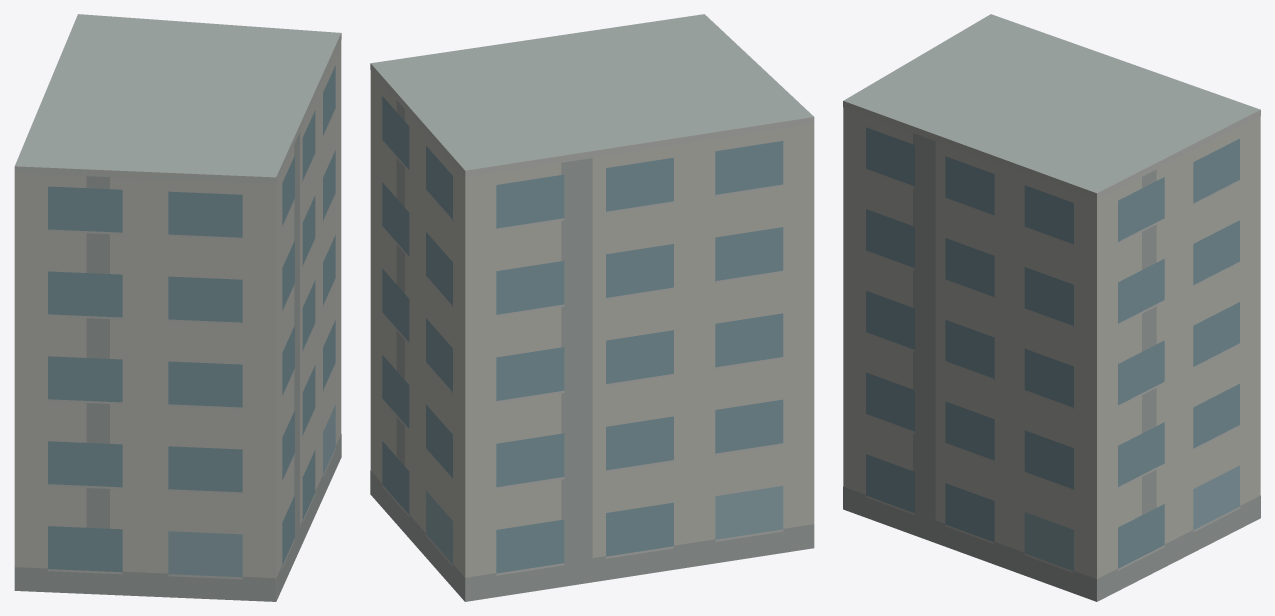
The model's file is residential-905942c7-f43f-4ac2-82bd-bfcf9d7c657f.glb.
3 views of the same model, side by side, from view 1: azimuth 30°, elevation 25°; view 2: azimuth 150°, elevation 25°; view 3: azimuth 270°, elevation 25° (orthographic). The views are drawn at different scales.
Parts seen in each view (by area): view 1: residential-905942c7-f43f-4ac2-82bd-bfcf9d7c657f.tmp; view 2: residential-905942c7-f43f-4ac2-82bd-bfcf9d7c657f.tmp; view 3: residential-905942c7-f43f-4ac2-82bd-bfcf9d7c657f.tmp.
Part boxes in pixels (x1,y1,x2,y2): residential-905942c7-f43f-4ac2-82bd-bfcf9d7c657f.tmp: [14, 14, 341, 601]; residential-905942c7-f43f-4ac2-82bd-bfcf9d7c657f.tmp: [370, 14, 814, 601]; residential-905942c7-f43f-4ac2-82bd-bfcf9d7c657f.tmp: [843, 14, 1260, 601].
Size of the model in its own units: 14.36 by 15.25 by 14.14.
